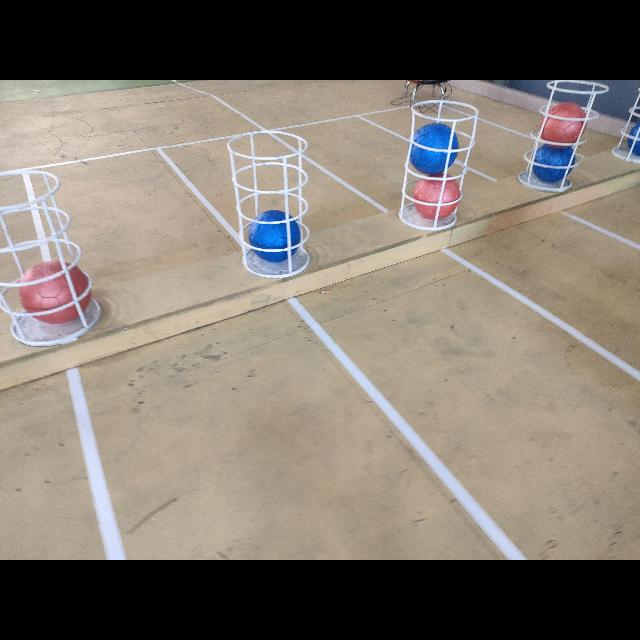B: (249, 210, 303, 262), (408, 123, 459, 173), (532, 145, 576, 183), (628, 120, 640, 154)
R: (20, 258, 90, 324), (416, 172, 460, 220), (539, 103, 587, 147)
